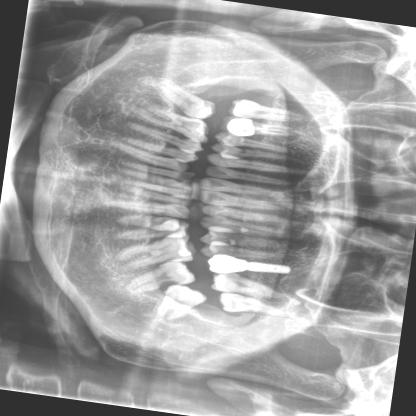ITI: (242, 256, 301, 282)
